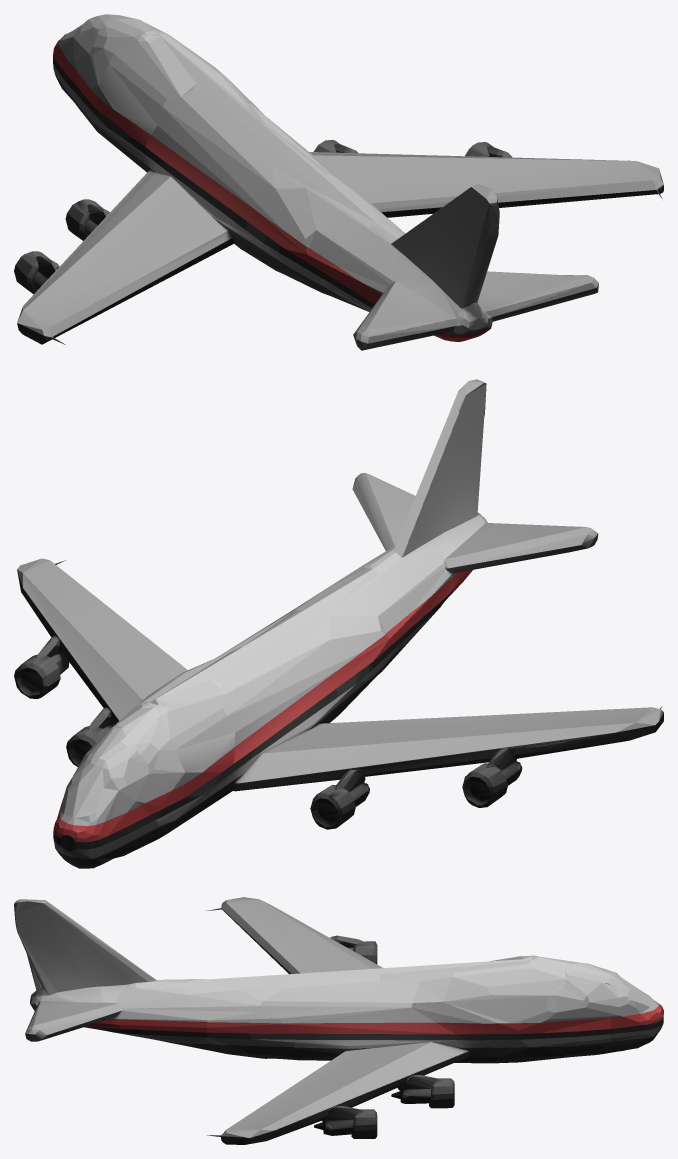
File: low-poly-detailed-plane.glb
3 views of the same model, one above another, from view 1: azimuth 30°, elevation 25°; view 2: azimuth 150°, elevation 25°; view 3: azimuth 270°, elevation 25° (orthographic). The views are drawn at different scales.
Parts seen in each view (by area): view 1: wings.006; view 2: wings.006; view 3: wings.006.
Part boxes in pixels (x1,y1,x2,y2): wings.006: (14,14,663,350); wings.006: (14,379,663,868); wings.006: (14,897,663,1144).
Bounding box in the file's own units: 60.27 × 19.26 × 68.92.
Materials: 1 (1 with a texture image).
